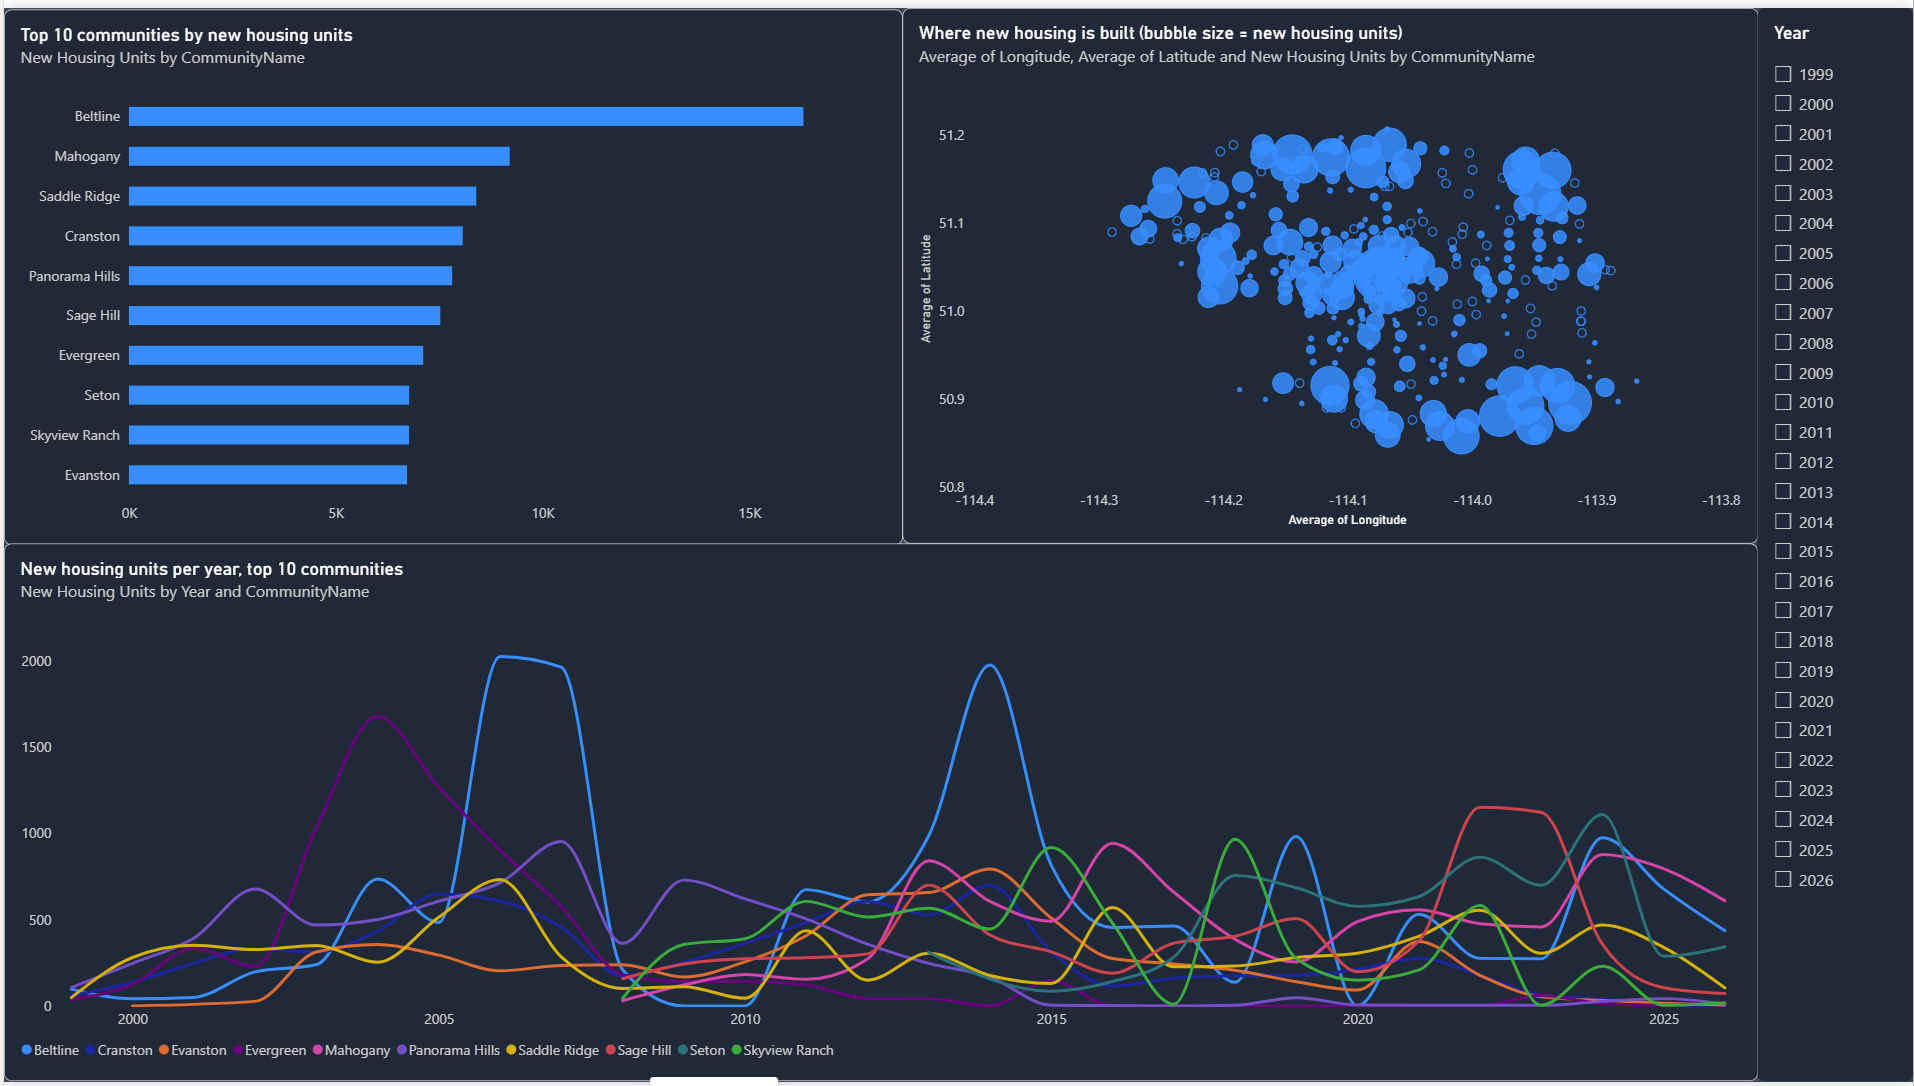

This screenshot's page, from the dashboard's own definition file:
{"tool":"powerbi","page":{"name":"Communities","canvas":[1920,1080],"ordinal":3},"visuals":[{"type":"listSlicer","fields":{"Values":["Calendar.Year"]},"box":[1764.2,0,156.4,1079.4],"z":0},{"type":"clusteredBarChart","title":"Top 10 communities by new housing units","fields":{"Category":["Permits.CommunityName"],"Y":["Permits.New Housing Units"]},"box":[0,1.7,903.8,538.8],"z":1000},{"type":"lineChart","title":"New housing units per year, top 10 communities","fields":{"Category":["Calendar.Year"],"Series":["Permits.CommunityName"],"Y":["Permits.New Housing Units"]},"box":[0,538.8,1764.2,540.5],"z":2000},{"type":"scatterChart","title":"Where new housing is built (bubble size = new housing units)","fields":{"Category":["Permits.CommunityName"],"Size":["Permits.New Housing Units"],"X":["Avg(Permits.Longitude)"],"Y":["Avg(Permits.Latitude)"]},"box":[903.8,0,860.4,538.8],"z":3000},{"type":"listSlicer","fields":{"Values":["Calendar.Year"]},"box":[1763.6,0,156.4,1079.4],"z":3001}]}

Visuals, with their boxes in screenshot pixels (x1, y1, x2, y2), scaled from the page's 1920x1080 canvas onto the 1914x1086 screenshot:
listSlicer - Calendar.Year: <region>1759, 0, 1913, 1085</region>
"Top 10 communities by new housing units" clusteredBarChart: <region>0, 2, 901, 544</region>
"New housing units per year, top 10 communities" lineChart: <region>0, 542, 1759, 1085</region>
"Where new housing is built (bubble size = new housing units)" scatterChart: <region>901, 0, 1759, 542</region>
listSlicer - Calendar.Year: <region>1758, 0, 1913, 1085</region>
